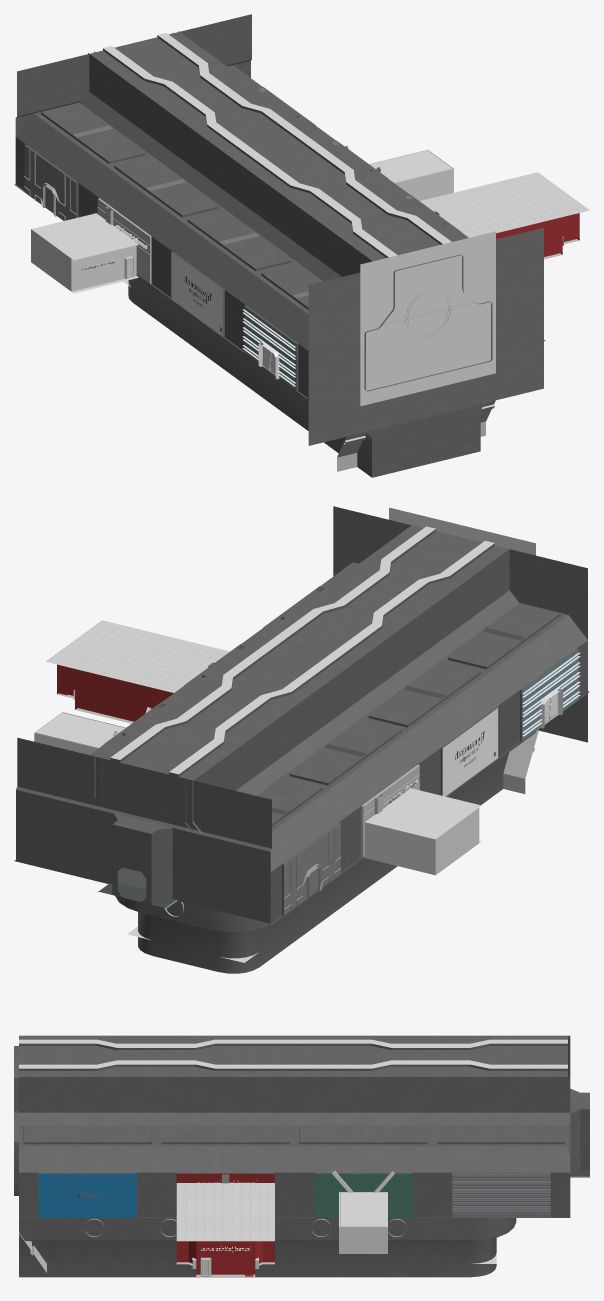
The model's file is neuleben.fbx.
3 views of the same model, one above another, from view 1: azimuth 30°, elevation 25°; view 2: azimuth 150°, elevation 25°; view 3: azimuth 270°, elevation 25° (orthographic). The views are drawn at different scales.
Parts seen in each view (by area): view 1: shop walls, back wall, shopping mall ceiling, shopping floor, jatirko ceiling, shopping elevator wall, shop walls.001, sumecek ceiling, coming soon, jatirko floor, roof, crime door frame (+2 smaller); view 2: shop walls, shopping elevator wall, shopping mall ceiling, shopping floor, back wall, jatirko ceiling, shop walls.001, jatirko floor, sumecek ceiling, coming soon, roof, crime door frame (+3 smaller); view 3: shop walls, shopping mall ceiling, shopping floor, jatirko ceiling, closed, jatirko floor, roof, shopping elevator wall, room, back wall.
Part boxes in pixels (x1=…): shop walls: x1=15, y1=31, x2=468, y2=398; back wall: x1=308, y1=228, x2=543, y2=445; shopping mall ceiling: x1=89, y1=31, x2=462, y2=261; shopping floor: x1=14, y1=184, x2=545, y2=477; jatirko ceiling: x1=419, y1=172, x2=589, y2=237; shopping elevator wall: x1=15, y1=14, x2=251, y2=136; shop walls.001: x1=31, y1=229, x2=136, y2=291; sumecek ceiling: x1=31, y1=213, x2=138, y2=260; coming soon: x1=172, y1=253, x2=223, y2=336; jatirko floor: x1=496, y1=213, x2=579, y2=259; roof: x1=369, y1=150, x2=452, y2=183; crime door frame: x1=242, y1=309, x2=295, y2=386; shop walls: x1=89, y1=549, x2=587, y2=923; shopping elevator wall: x1=16, y1=737, x2=271, y2=923; shopping mall ceiling: x1=96, y1=525, x2=509, y2=780; shopping floor: x1=14, y1=691, x2=589, y2=973; back wall: x1=333, y1=506, x2=587, y2=742; jatirko ceiling: x1=46, y1=620, x2=229, y2=692; shop walls.001: x1=365, y1=808, x2=479, y2=875; jatirko floor: x1=57, y1=664, x2=173, y2=723; sumecek ceiling: x1=365, y1=788, x2=481, y2=839; coming soon: x1=442, y1=708, x2=498, y2=796; roof: x1=35, y1=712, x2=125, y2=748; crime door frame: x1=522, y1=652, x2=580, y2=736; shop walls: x1=19, y1=1035, x2=570, y2=1217; shopping mall ceiling: x1=19, y1=1035, x2=567, y2=1076; shopping floor: x1=19, y1=1217, x2=570, y2=1277; jatirko ceiling: x1=176, y1=1183, x2=274, y2=1241; closed: x1=452, y1=1173, x2=550, y2=1217; jatirko floor: x1=176, y1=1241, x2=274, y2=1277; roof: x1=339, y1=1192, x2=387, y2=1227; shopping elevator wall: x1=568, y1=1088, x2=589, y2=1174; room: x1=339, y1=1192, x2=387, y2=1253; back wall: x1=14, y1=1046, x2=18, y2=1195.
Bounding box in the file's own units: 4812 × 2303 × 5861.
